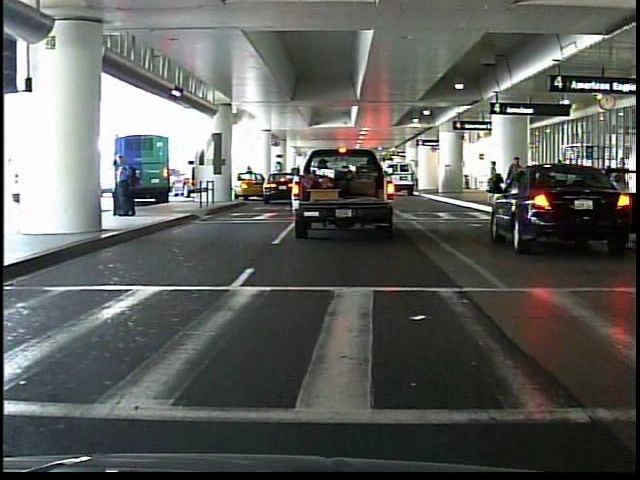person: (112, 151, 140, 221), (506, 153, 525, 207)
